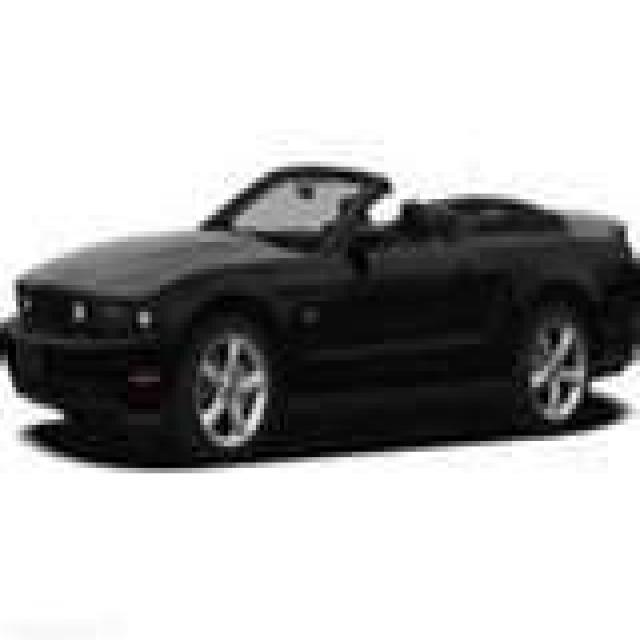car: (0, 151, 636, 484)
